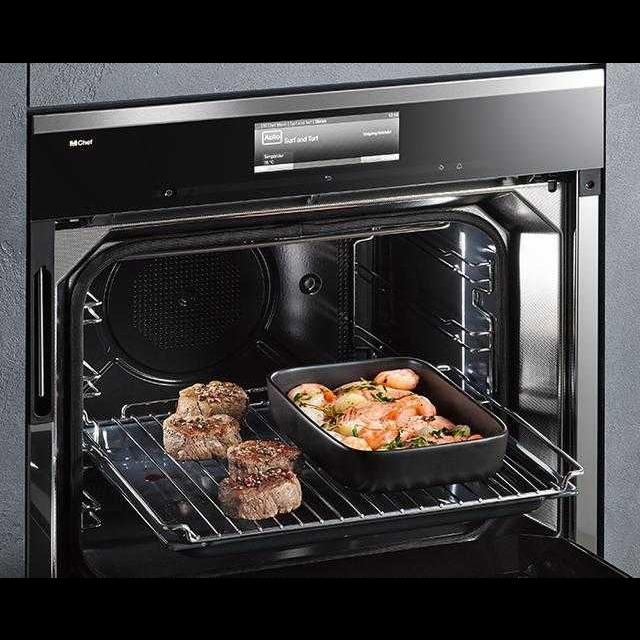Oven: (9, 74, 601, 576)
